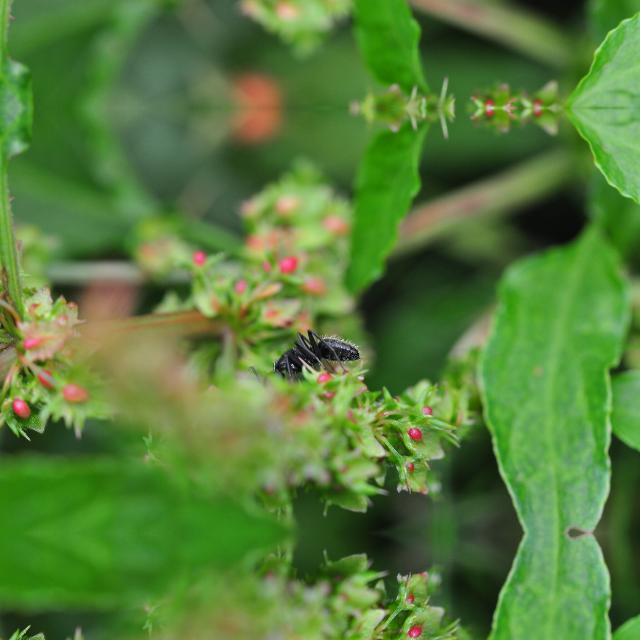Camponotus: (258, 324, 368, 382)
